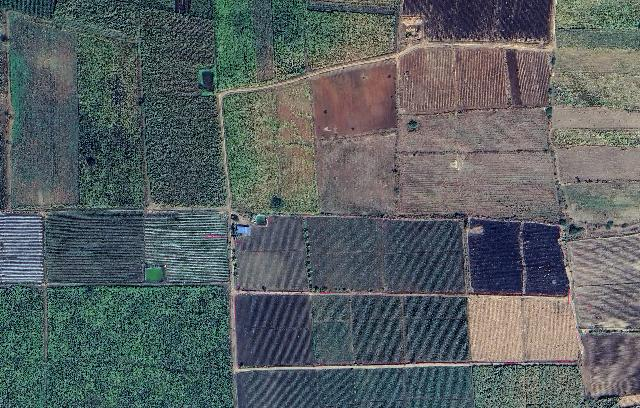DryFarms: (469, 295, 581, 361)
EmptyFarms: (399, 47, 549, 115), (310, 57, 398, 142), (404, 0, 555, 44), (237, 294, 317, 366), (468, 220, 525, 295), (523, 222, 569, 297)
Farms: (53, 0, 227, 206), (48, 285, 233, 408), (11, 12, 79, 209), (223, 77, 319, 215), (304, 218, 465, 292), (78, 32, 146, 205), (398, 150, 561, 218), (316, 295, 472, 364), (235, 364, 475, 408), (44, 209, 146, 283), (399, 107, 551, 152), (315, 134, 396, 214), (304, 9, 397, 74), (236, 213, 310, 290), (0, 286, 44, 408), (473, 365, 586, 408)
water: (144, 266, 166, 284)
